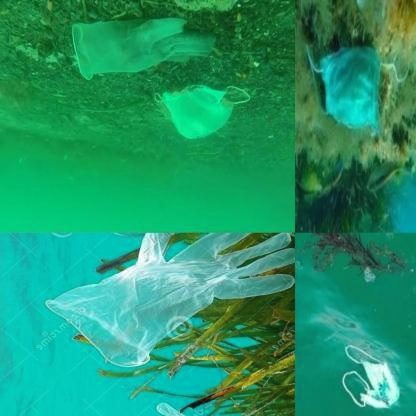Mask: (304, 41, 409, 135), (148, 80, 250, 150), (341, 344, 401, 413)
glove: (44, 233, 295, 368), (56, 11, 222, 75)
